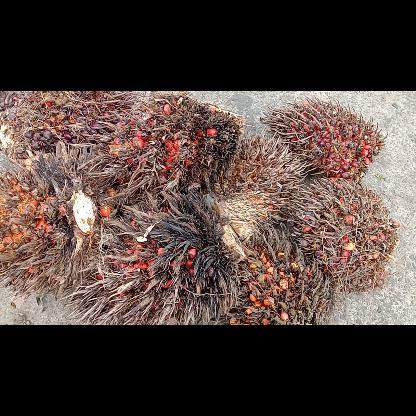Terlalu masak: (64, 190, 252, 324), (0, 141, 118, 297), (109, 91, 245, 185), (286, 177, 398, 291), (262, 96, 386, 180), (229, 226, 333, 324), (214, 128, 306, 228), (0, 90, 134, 150)
